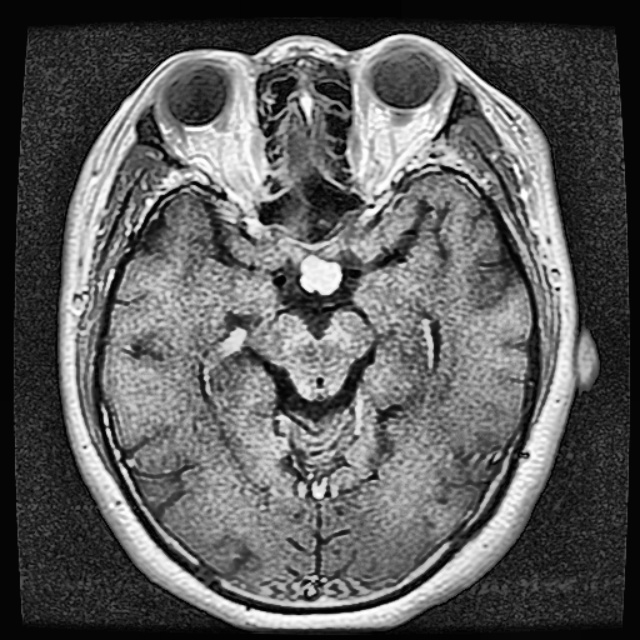Pituitary: (299, 254, 342, 295)
